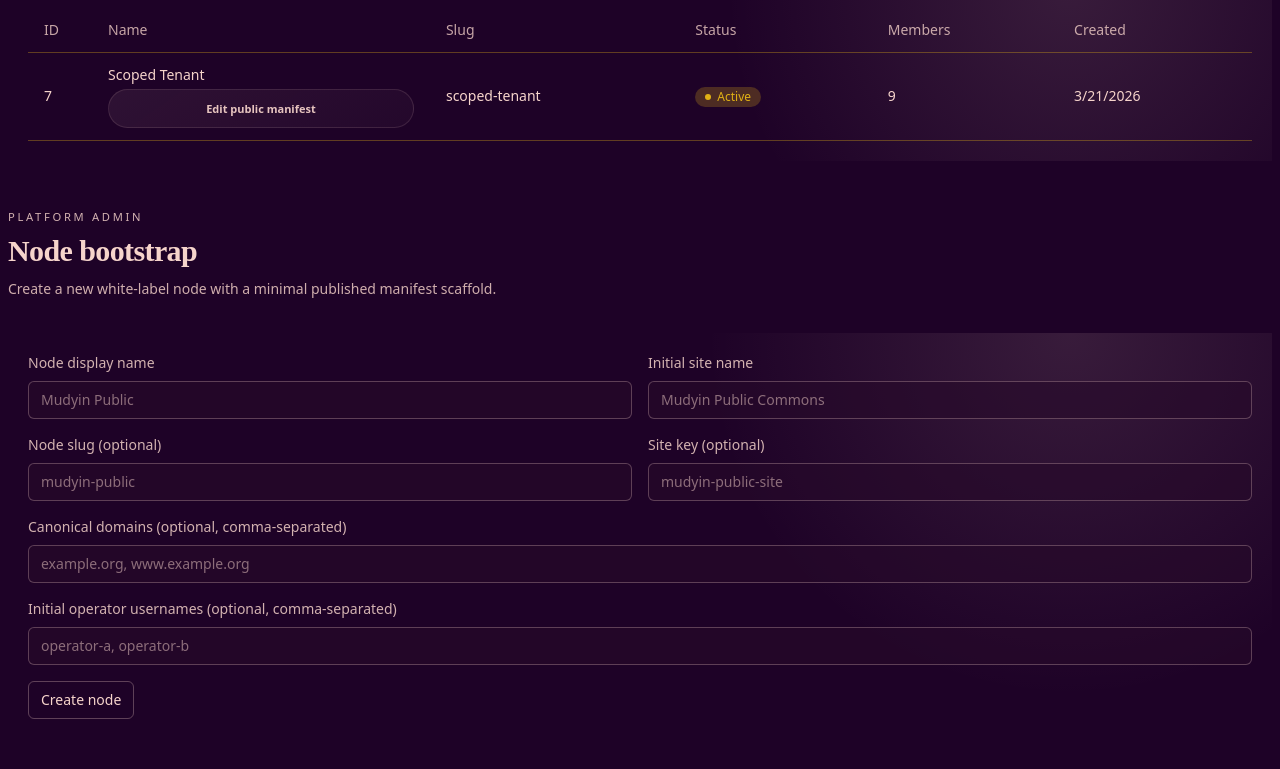
Test: TenantsListPage › platform admin can create a bootstrapped node from minimal control form
(page scrolled)
Expected: the heading "Node bootstrap" is shown, [8,234,197,267]
Type "Mudyin North" into the field labelled "Node display name" at coordinates (330, 400), box [28,381,632,419]
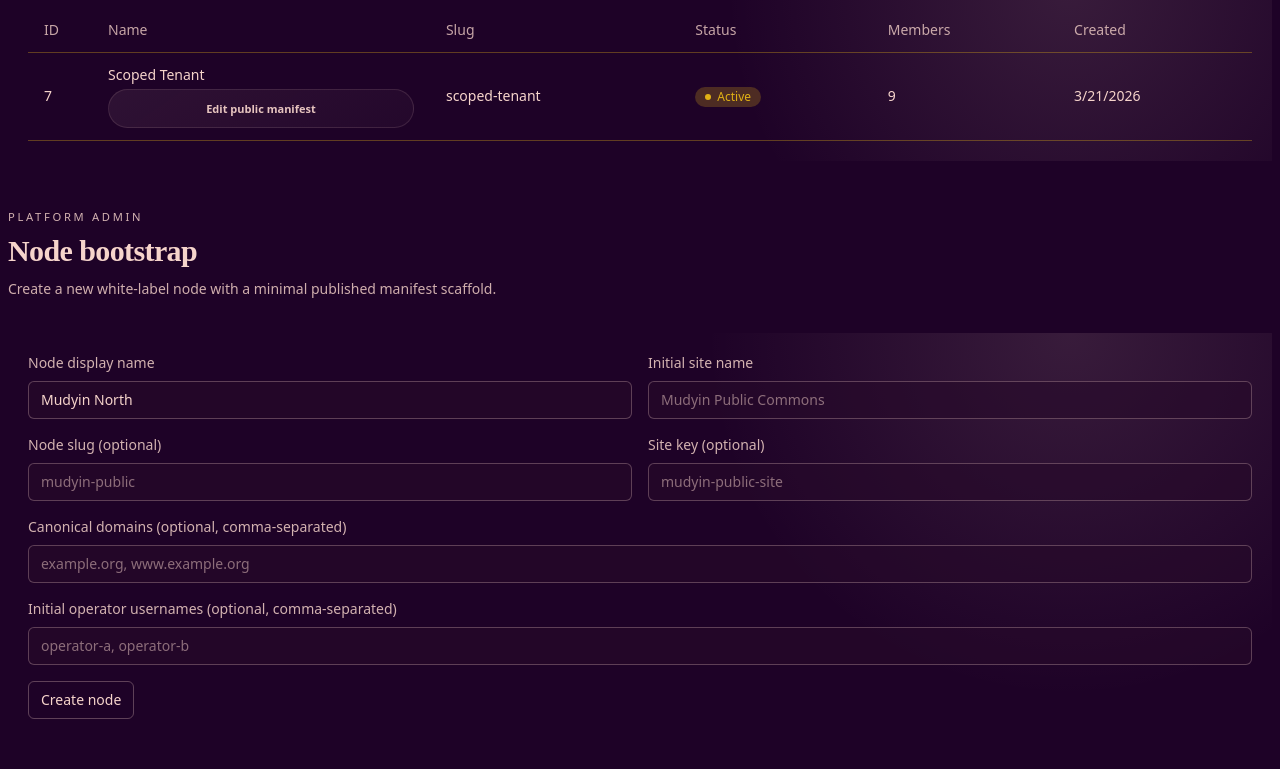
Type "Mudyin North Public" into the field labelled "Initial site name" at coordinates (950, 400), box [648,381,1252,419]
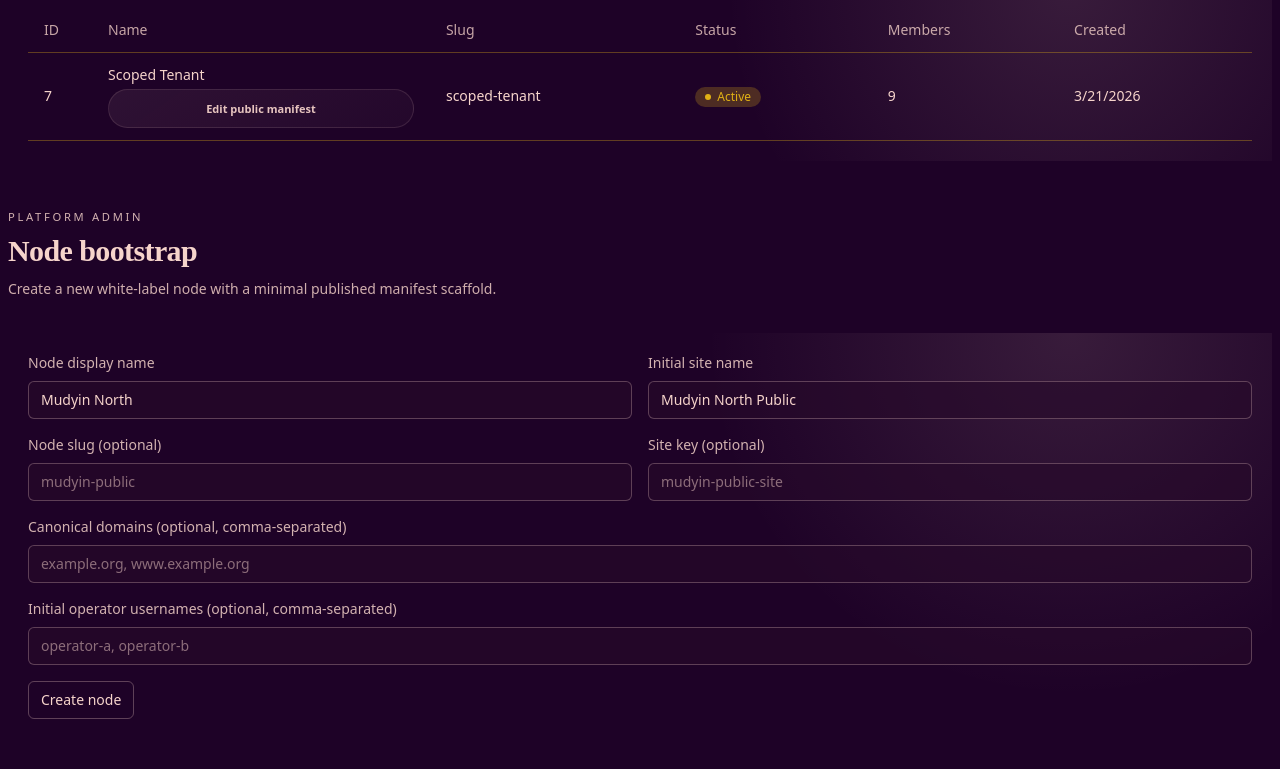
Type "  TENANT-OPERATOR " into the field labelled "Initial operator usernames (optional, comma-separated)" at coordinates (640, 646), box [28,627,1252,665]
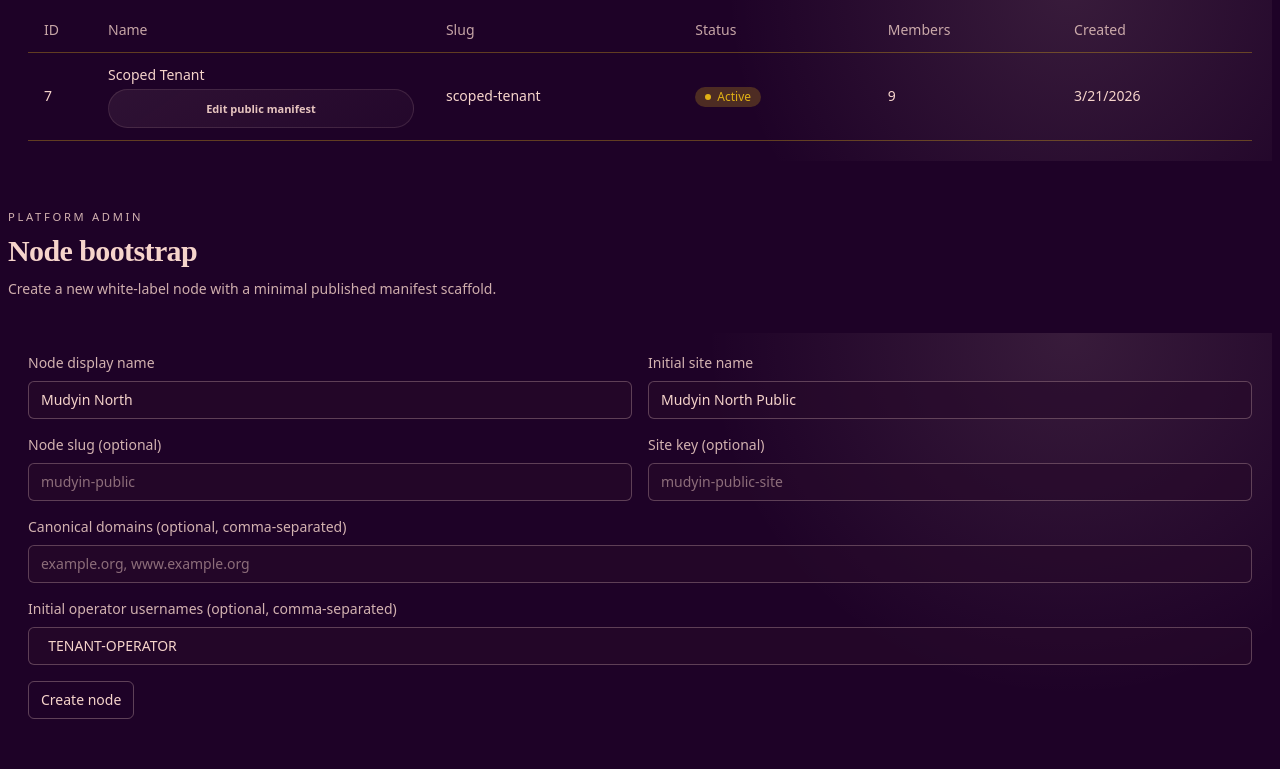
Click the button "Create node" at coordinates (81, 700), box [28,681,134,719]
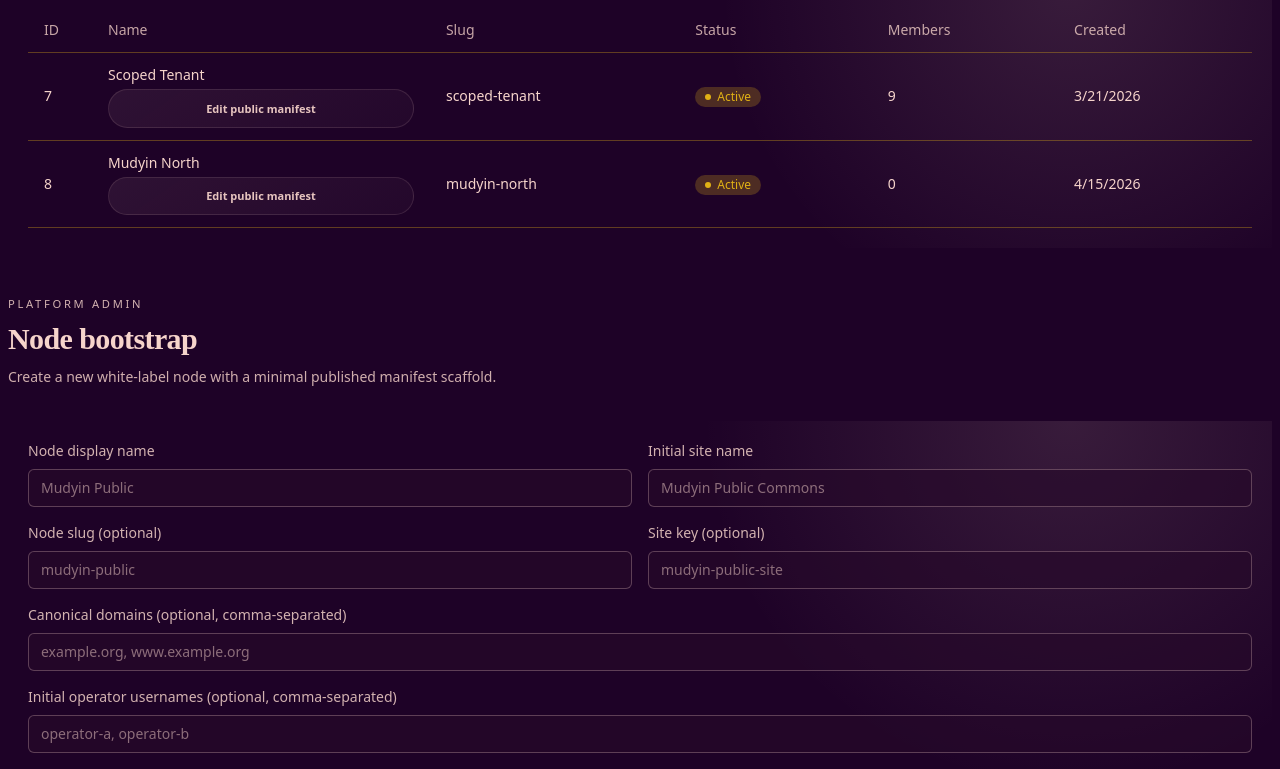
Expected: the text "Mudyin North" is shown, [108,152,200,172]
